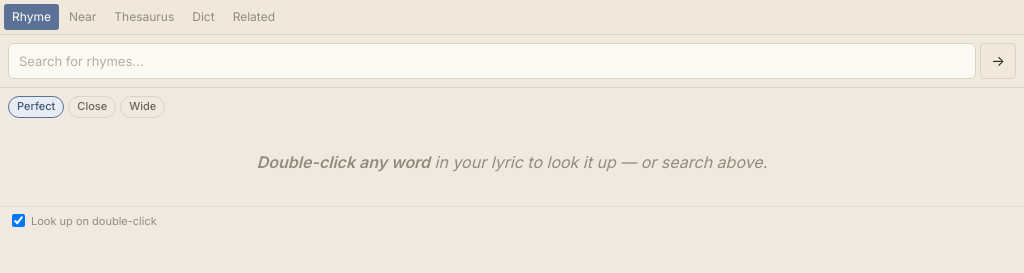
Test: Tools pane — filter chips, honest states, and collect (C-14) › T-14.14: the "Close" filter narrows the near-rhyme result set relative to "Wide"
This screenshot has width=1024, height=273.
Type "sky" into the field with test id "tools-search-input".
click(492, 61); type("sky")  # box [8,43,976,79]
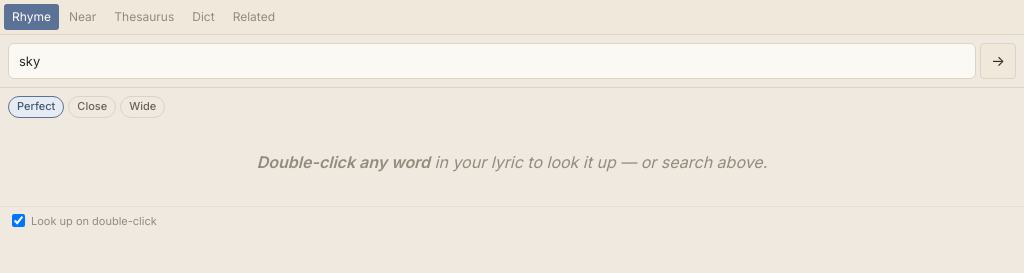
Click the button with test id "tools-search-button".
click(998, 61)  # box [980,43,1016,79]
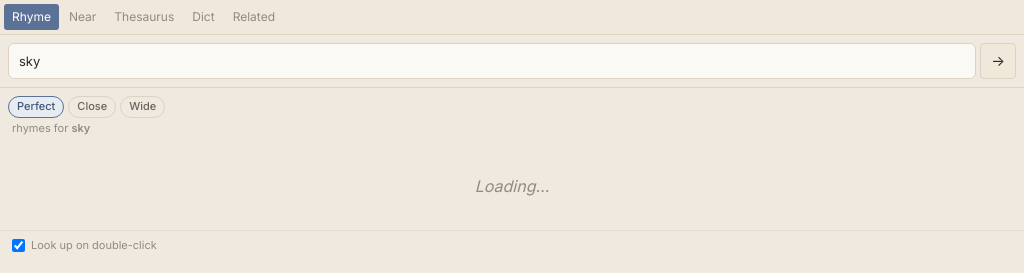
Wide: shows every near-rhyme result
Click the button with test id "tools-filter-chip-wide".
click(143, 107)  # box [120,96,165,118]
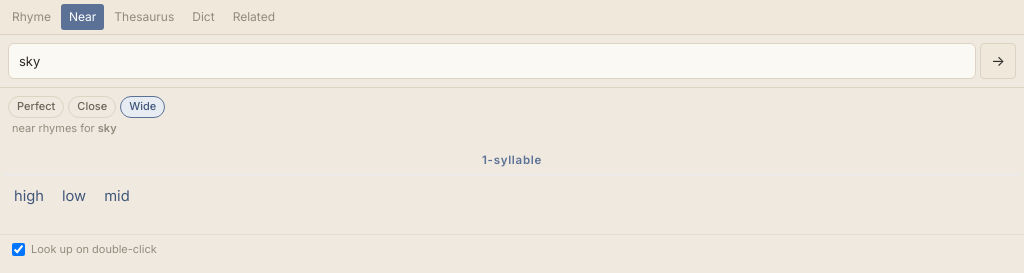
Now the button "high" is shown, box [12,182,46,212]
Now the button "low" is shown, box [60,182,88,212]
Close: narrows to the higher-scoring subset — the lowest-scoring word drops out
Click the button with test id "tools-filter-chip-close".
click(92, 107)  # box [68,96,116,118]
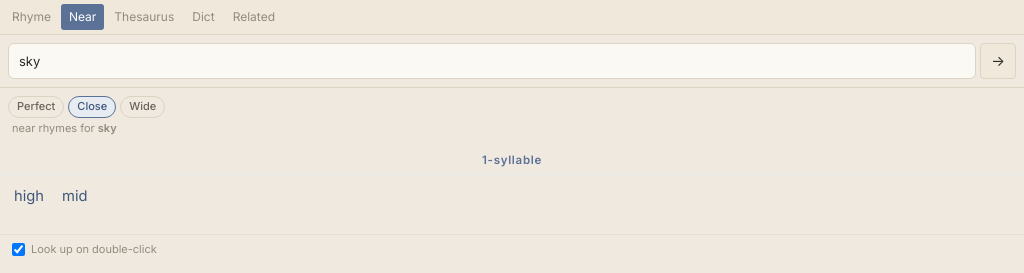
Now the button "high" is shown, box [12,182,46,212]
Now the button "low" is gone
